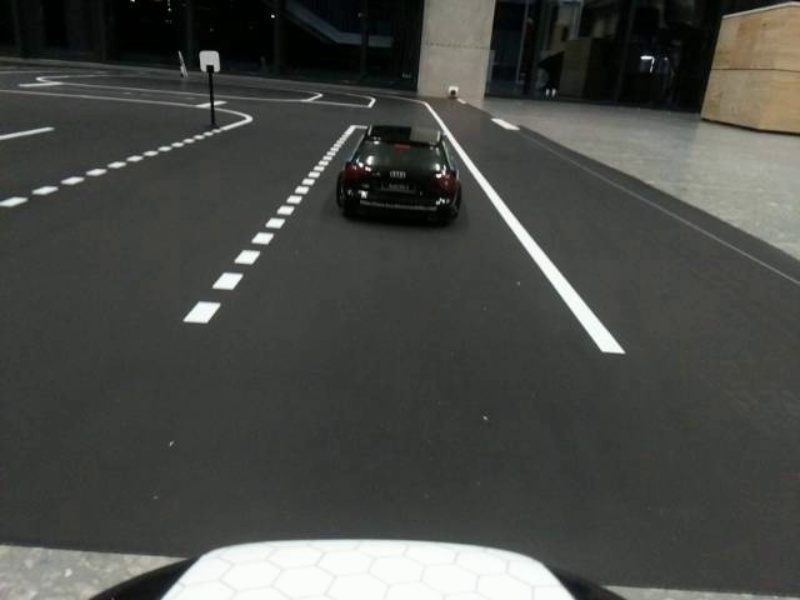car: (332, 116, 469, 236)
